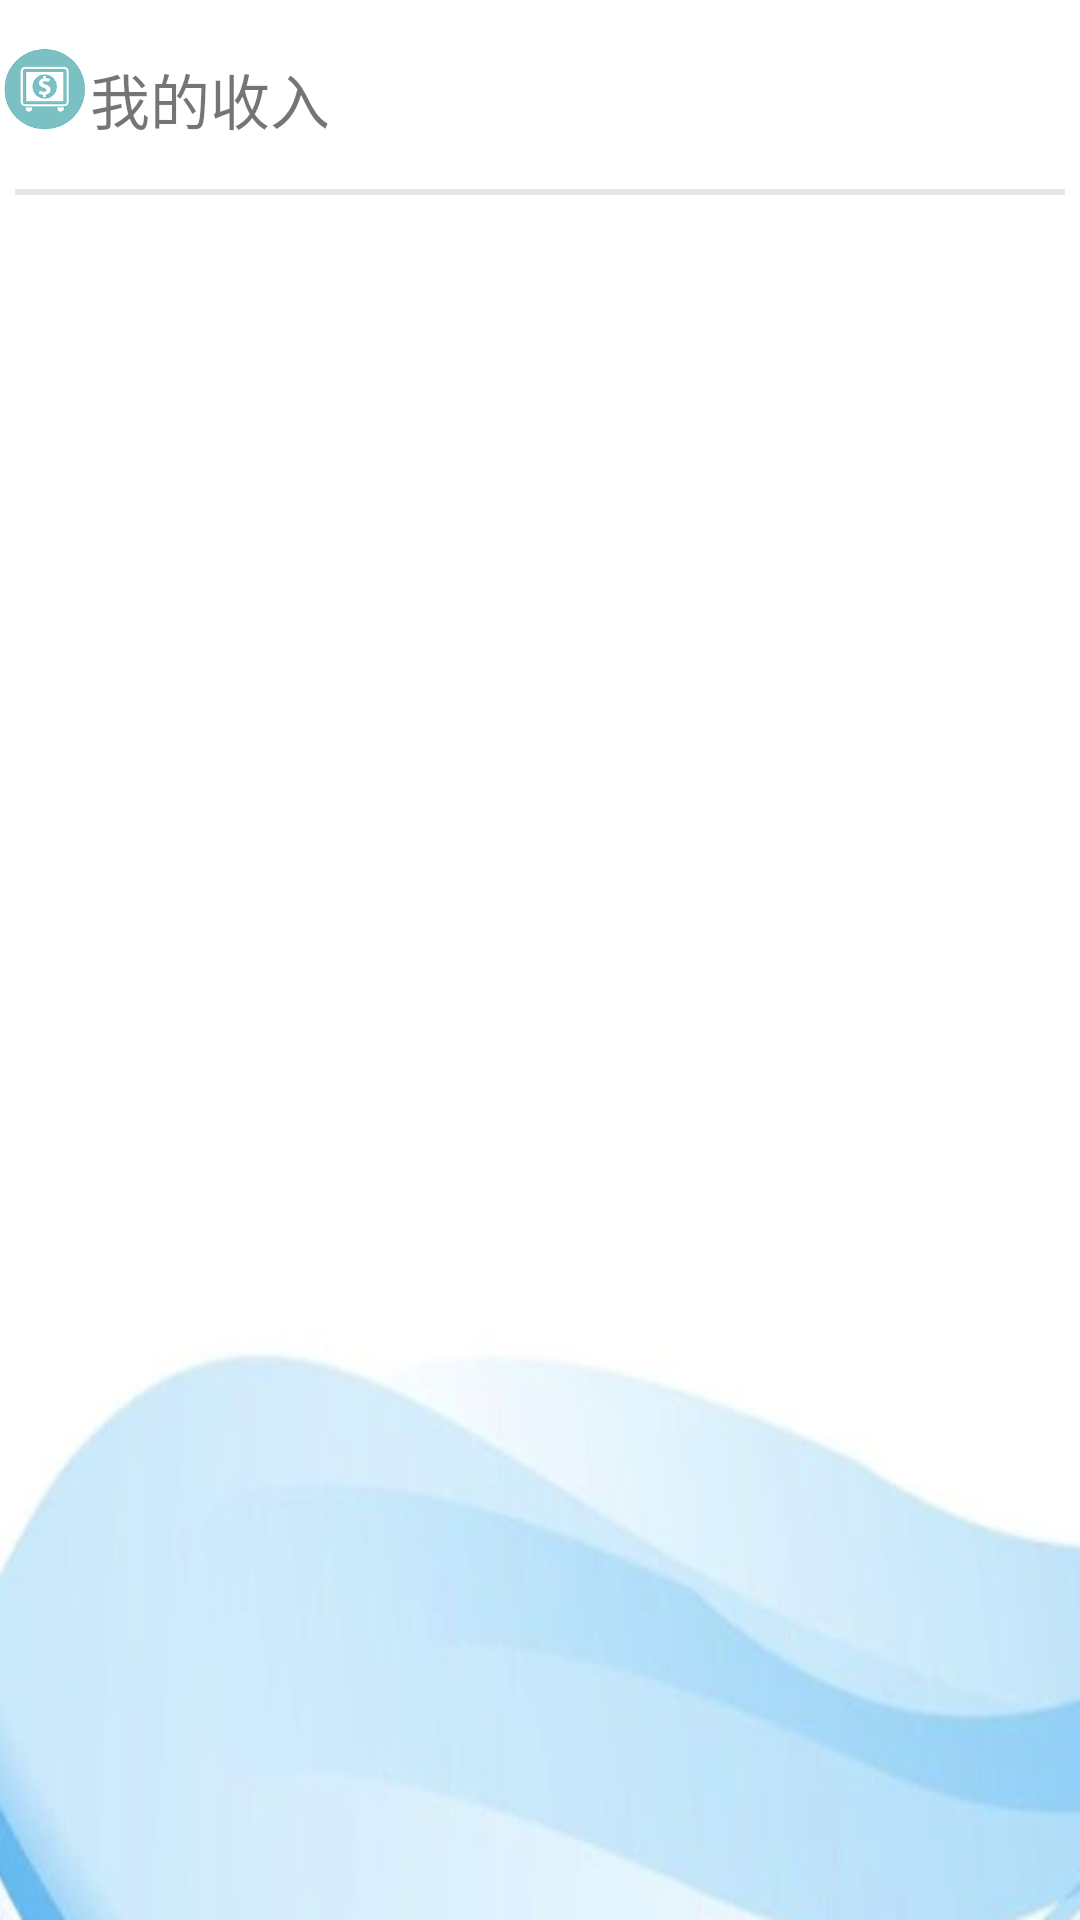

Screen size 1080px×1920px. Icon name, then its center in pixels as point (x, y):
chaxunshouru: point (44, 89)
